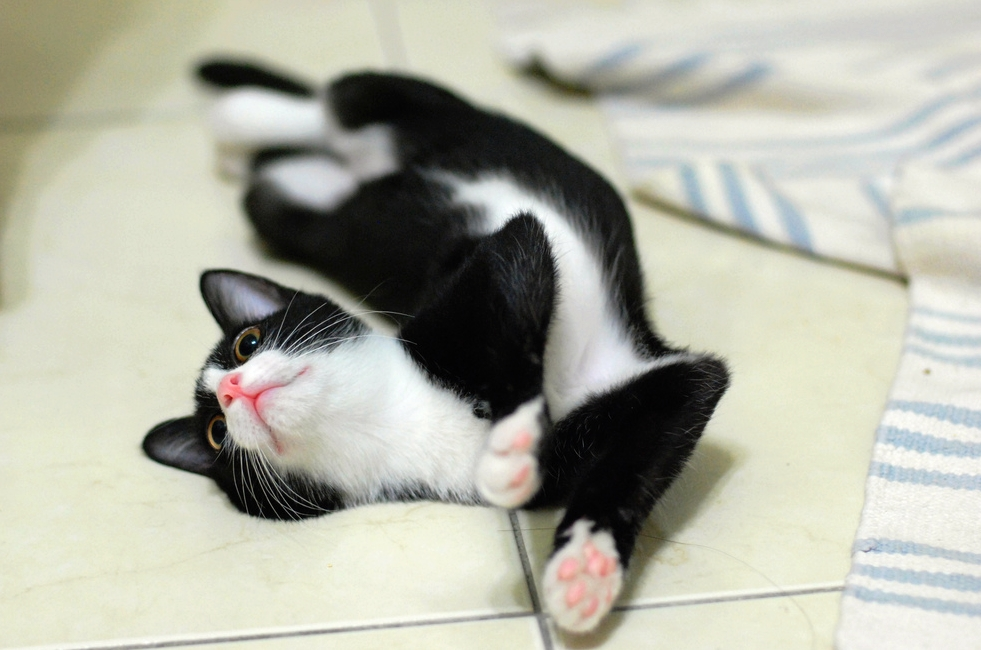cat: (136, 58, 737, 638)
